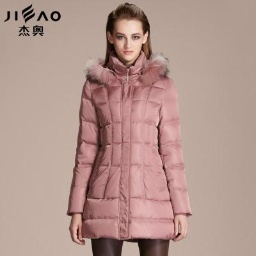face: (97, 1, 162, 75)
